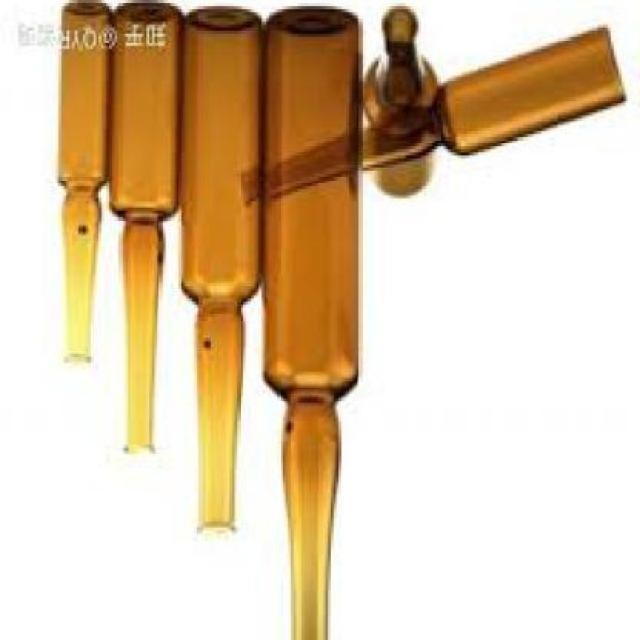glass: (246, 31, 631, 211), (263, 9, 362, 638), (184, 11, 264, 534), (106, 6, 179, 457), (60, 3, 115, 366), (366, 10, 440, 198)
